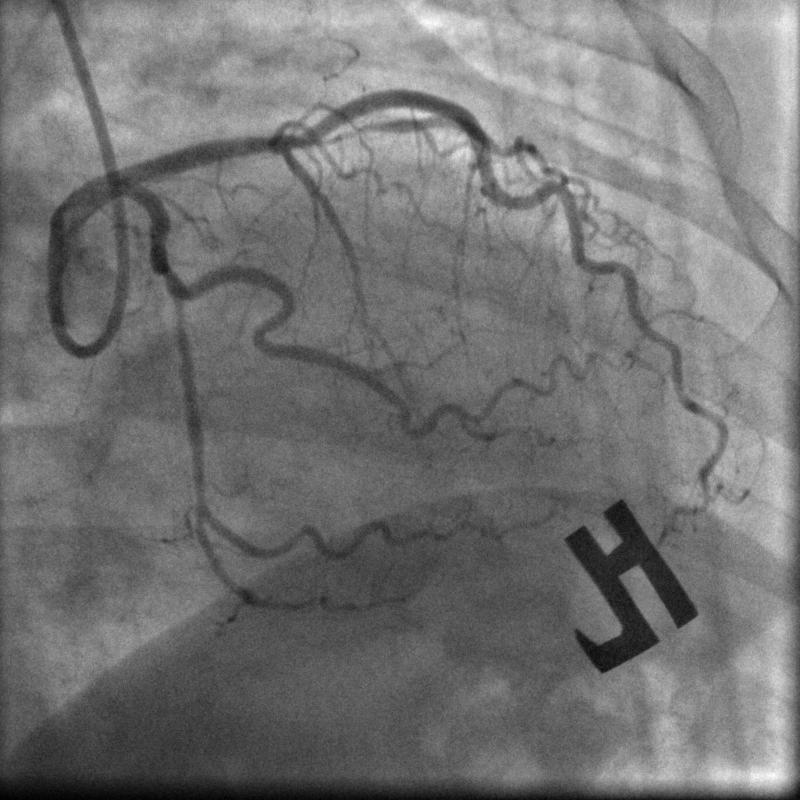Stenosis: (145, 231, 193, 296)
